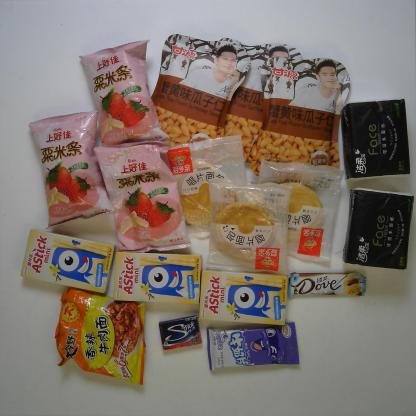Candy: (204, 321, 302, 372)
Chocolate: (284, 270, 368, 299)
Dessert: (256, 159, 345, 270), (160, 134, 250, 240), (204, 176, 294, 278), (18, 228, 116, 296), (198, 269, 291, 327), (113, 249, 203, 307)
Dried Fruit: (250, 56, 352, 178), (150, 32, 252, 149), (214, 36, 306, 164)
Gum: (156, 314, 203, 352)
Instant Noodles: (55, 284, 147, 388)
Puffed Food: (92, 144, 194, 253), (25, 110, 117, 230), (78, 38, 172, 147)
Tissue: (342, 186, 415, 271), (339, 97, 411, 183)
